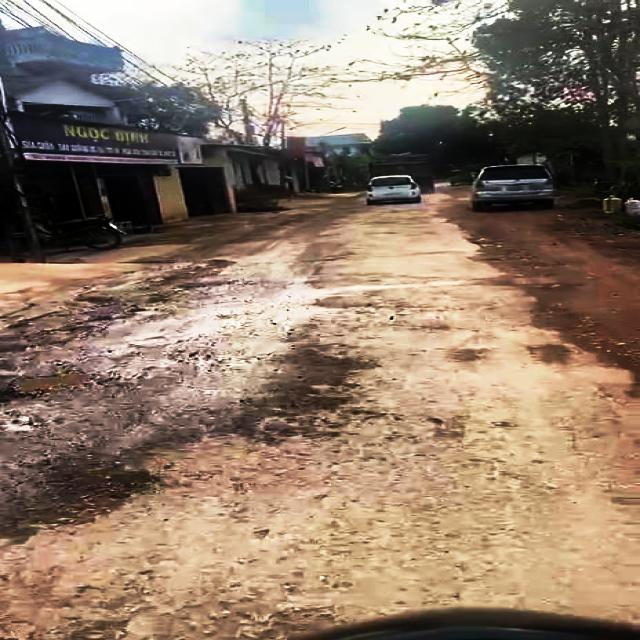pothole: (0, 459, 167, 542)
